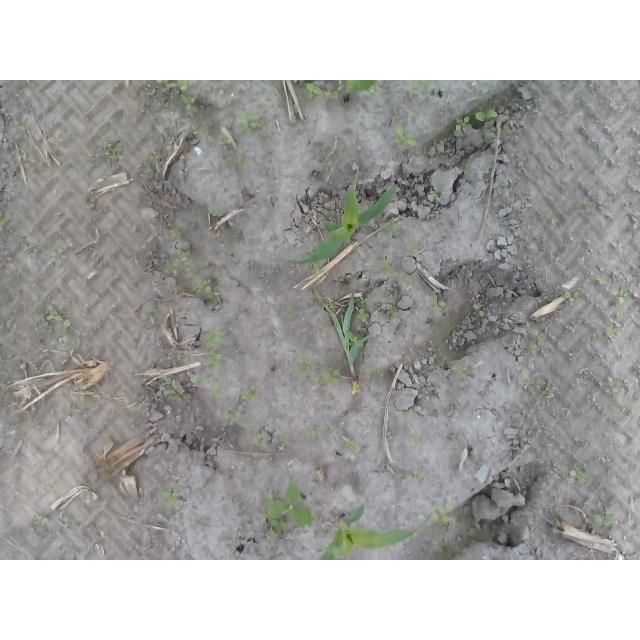Maize: (285, 176, 395, 266), (308, 285, 372, 384), (318, 504, 430, 560), (343, 80, 378, 102)
Weeds: (264, 479, 317, 541), (196, 328, 227, 399), (39, 302, 81, 345), (294, 351, 343, 386), (380, 255, 424, 290), (155, 80, 202, 112), (160, 249, 209, 273), (474, 100, 499, 144), (192, 277, 225, 305), (520, 376, 556, 401), (306, 80, 347, 101), (192, 126, 233, 146), (391, 119, 417, 149), (239, 110, 265, 138), (611, 288, 631, 321), (158, 488, 184, 513), (244, 423, 269, 449), (432, 500, 457, 525), (102, 136, 126, 161), (356, 362, 384, 383), (568, 463, 593, 486), (79, 191, 110, 209), (376, 217, 400, 240), (352, 298, 370, 327), (591, 511, 620, 529), (308, 422, 329, 446), (408, 80, 435, 98), (135, 311, 161, 329), (527, 328, 545, 352), (403, 469, 425, 488), (591, 326, 625, 338), (49, 248, 68, 269), (430, 295, 448, 317), (567, 224, 590, 241), (562, 288, 586, 304), (545, 206, 564, 226), (168, 222, 188, 240), (404, 239, 424, 257), (455, 116, 472, 137), (224, 408, 241, 427), (453, 367, 472, 384), (384, 304, 401, 322), (240, 384, 257, 401), (348, 330, 365, 347), (591, 273, 609, 288), (345, 439, 364, 453), (472, 302, 488, 318), (15, 151, 37, 162), (159, 372, 177, 385), (608, 375, 621, 393), (369, 83, 384, 98), (67, 404, 82, 419), (0, 217, 16, 231), (408, 431, 424, 445), (240, 457, 257, 470), (167, 389, 185, 401), (238, 151, 250, 169), (319, 298, 337, 310), (148, 147, 162, 162), (481, 80, 494, 96), (575, 175, 593, 186), (550, 467, 563, 481), (33, 513, 48, 525), (398, 409, 418, 418), (286, 305, 298, 320), (79, 384, 90, 400), (454, 401, 464, 416), (279, 430, 289, 444), (209, 207, 223, 217), (430, 189, 442, 200), (591, 159, 609, 166), (614, 407, 625, 418), (351, 383, 363, 393), (15, 119, 25, 130), (511, 357, 521, 368), (551, 311, 562, 321), (504, 124, 513, 136), (49, 363, 64, 370), (631, 215, 640, 225), (463, 160, 472, 170), (583, 201, 593, 209), (290, 103, 298, 113), (439, 336, 449, 344), (314, 263, 321, 273), (291, 80, 304, 85), (1, 232, 8, 241), (320, 315, 329, 321), (543, 288, 549, 293)
